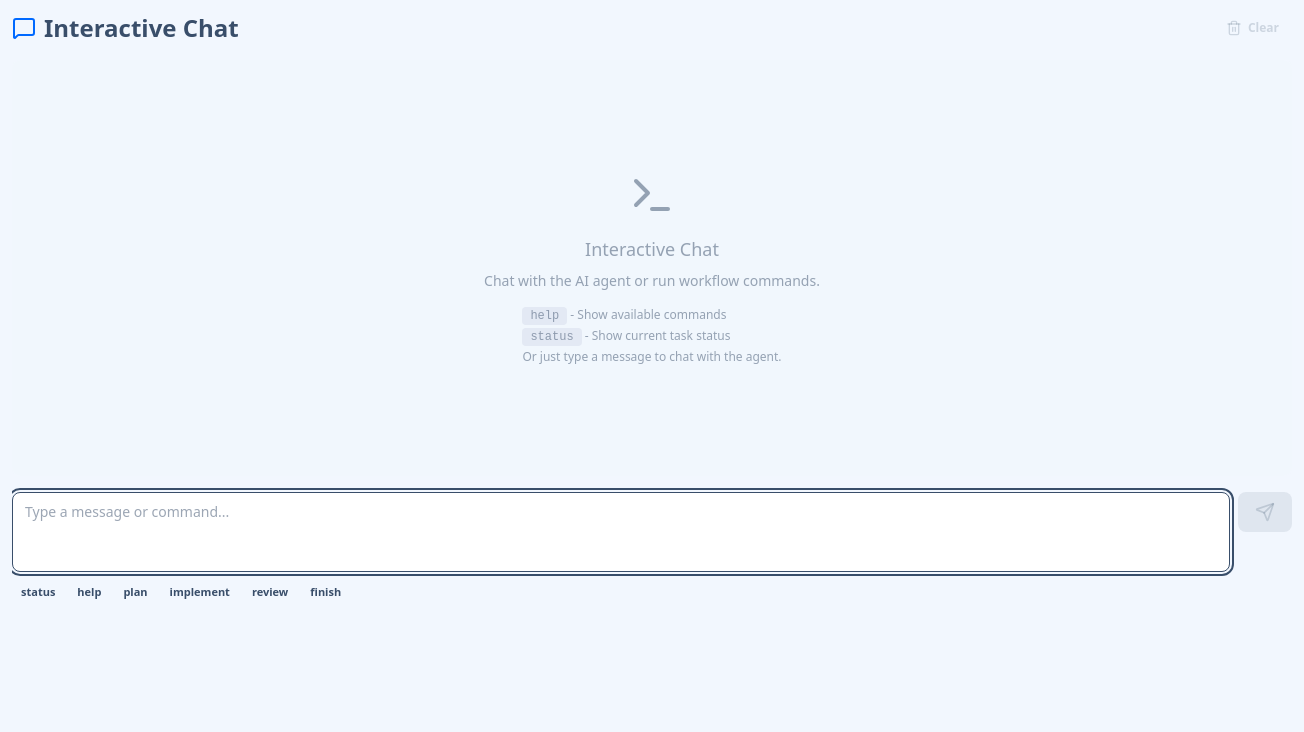
Test: Chat › shows command errors once in chat without duplicate alert banner
In the text box: (621, 532) [12, 492, 1230, 572], type "status"
Then press Enter
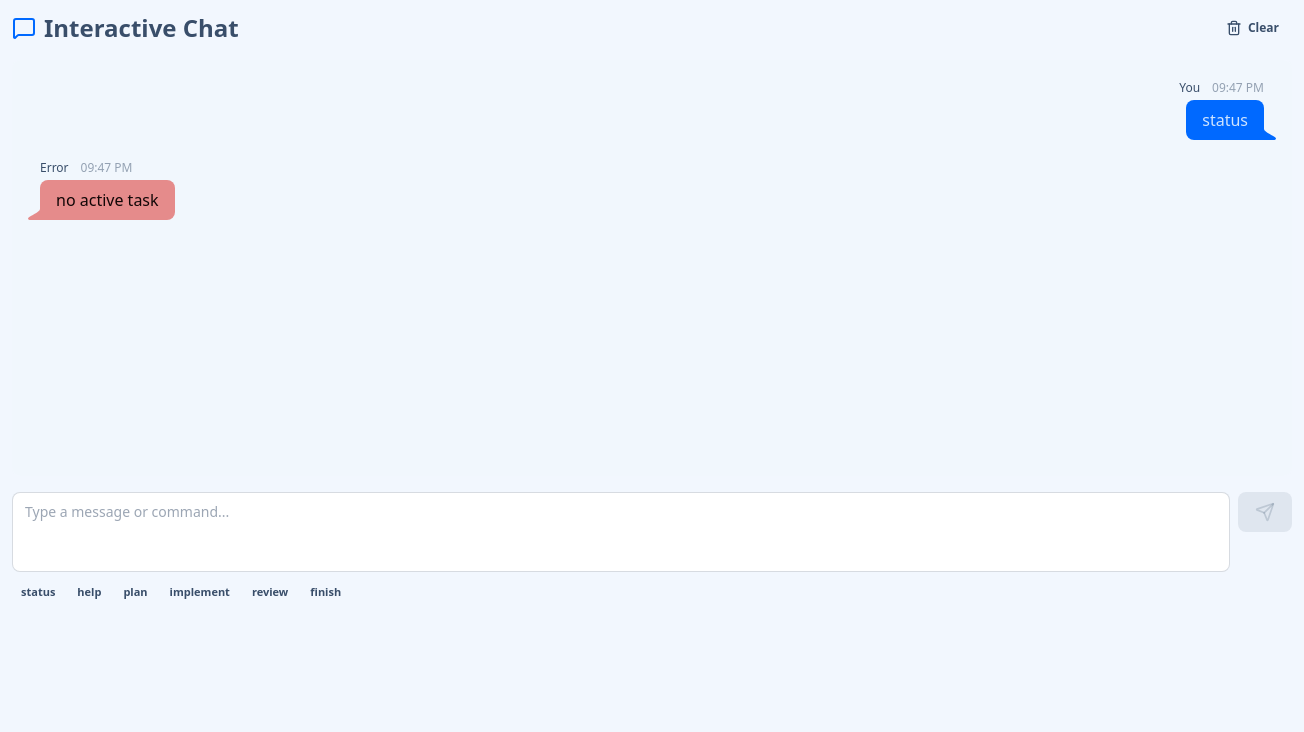
Expected: the text "no active task" is shown once, [40, 180, 175, 220]
